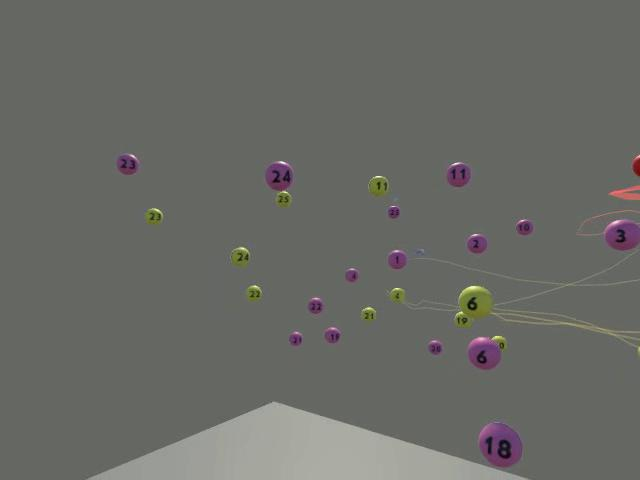ball_01_pink: (386, 248, 405, 267)
ball_02_pink: (466, 233, 487, 253)
ball_03_pink: (603, 219, 639, 250)
ball_04_pink: (344, 268, 358, 282)
ball_04_yellow: (389, 287, 405, 303)
ball_06_pink: (467, 336, 500, 369)
ball_06_yellow: (457, 285, 492, 318)
ball_10_pink: (515, 219, 533, 235)
ball_11_pink: (446, 161, 471, 187)
ball_11_yellow: (367, 175, 388, 196)
ball_18_pink: (477, 421, 522, 467)
ball_19_pink: (324, 326, 340, 343)
ball_19_yellow: (454, 311, 471, 327)
ball_20_pink: (427, 339, 442, 354)
ball_21_pink: (288, 331, 302, 345)
ball_21_yellow: (360, 306, 375, 320)
ball_22_pink: (307, 297, 323, 313)
ball_22_yellow: (246, 284, 261, 301)
ball_23_pink: (115, 151, 139, 172)
ball_23_yellow: (144, 208, 162, 225)
ball_24_pink: (264, 160, 293, 191)
ball_24_yellow: (230, 244, 249, 264)
ball_25_pink: (387, 205, 400, 218)
ball_25_yellow: (274, 190, 291, 207)
ball_unknown: (491, 335, 507, 350), (631, 154, 639, 176), (636, 345, 639, 357)
